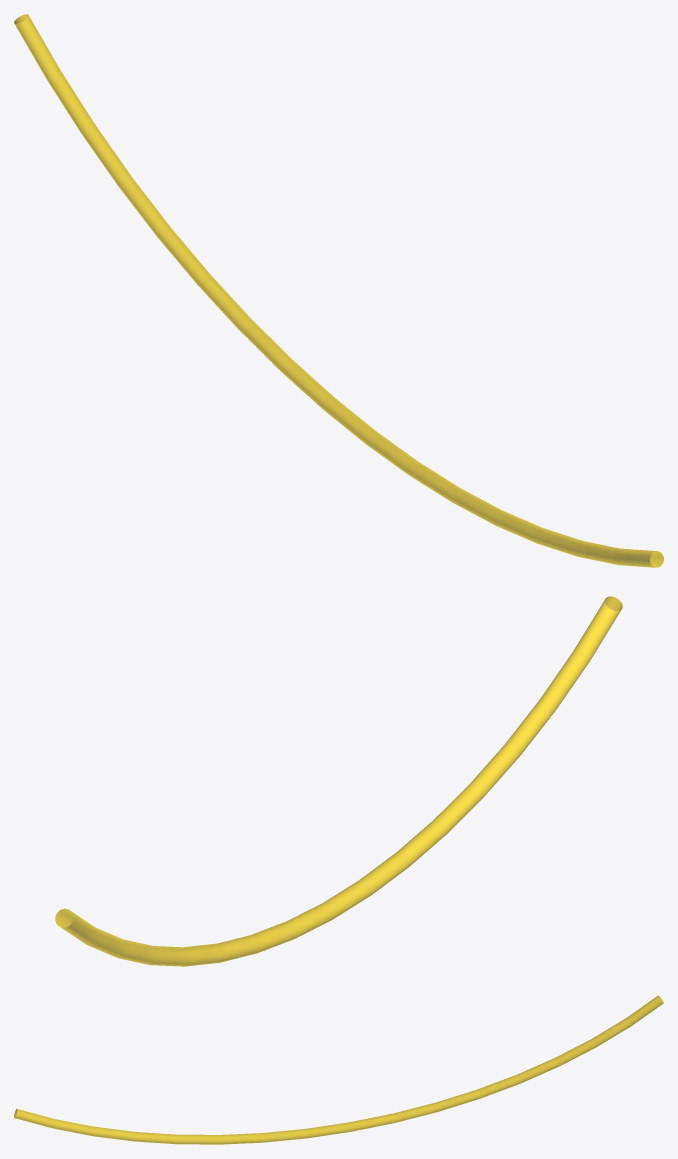
File: Event_75125125_track_56.fbx
The picture shows the model from 3 angles, top to bottom: view 1: azimuth 30°, elevation 25°; view 2: azimuth 150°, elevation 25°; view 3: azimuth 270°, elevation 25°; orthographic projection. The views are drawn at different scales.
Visible parts, largest first — view 1: Model; view 2: Model; view 3: Model.
Part boxes in pixels (bbox=[...]): Model: bbox=[14, 14, 663, 567]; Model: bbox=[55, 596, 622, 966]; Model: bbox=[14, 995, 663, 1144].
Bounding box in the file's own units: 0.2676 × 0.5999 × 2.67.
